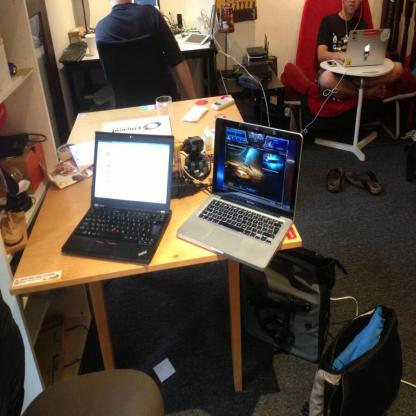board: (177, 119, 304, 270), (64, 124, 170, 272), (336, 30, 390, 67)
